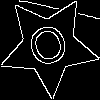O: (23, 21, 76, 78)
